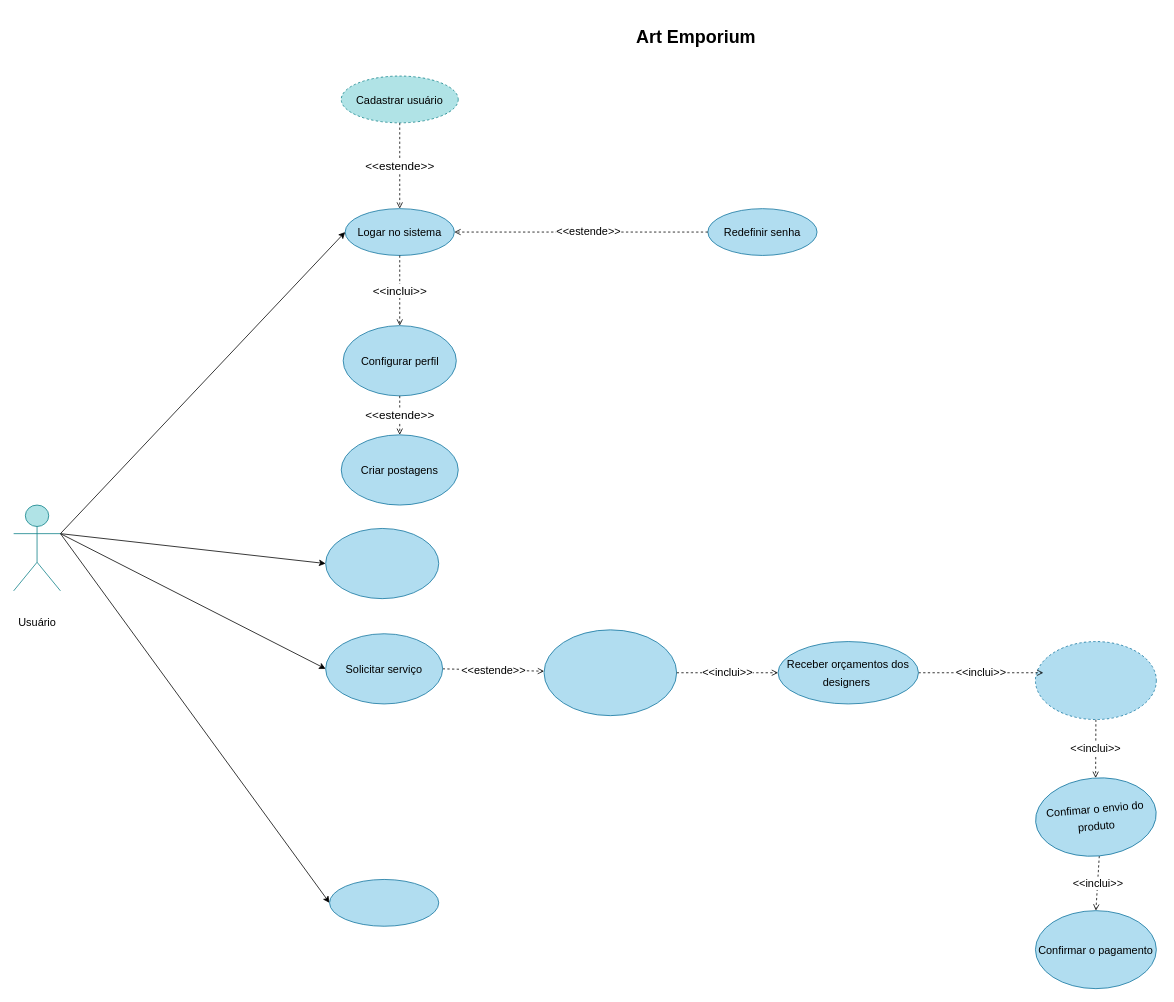
Some shapes in this 1174 by 1002 pixel diagram are drawn without their labels. Each missing label, with the centre of its shape:
"Acessar página de portfólio dos designers" belongs at point 382,563.
"Escolher um dos orçamentos feitos por um do designers" belongs at point 1095,680.
"Exclusão de usuário" belongs at point 384,902.
"Receber notificação de quem e quantos designers aceitaram o serviço" belongs at point 610,672.
